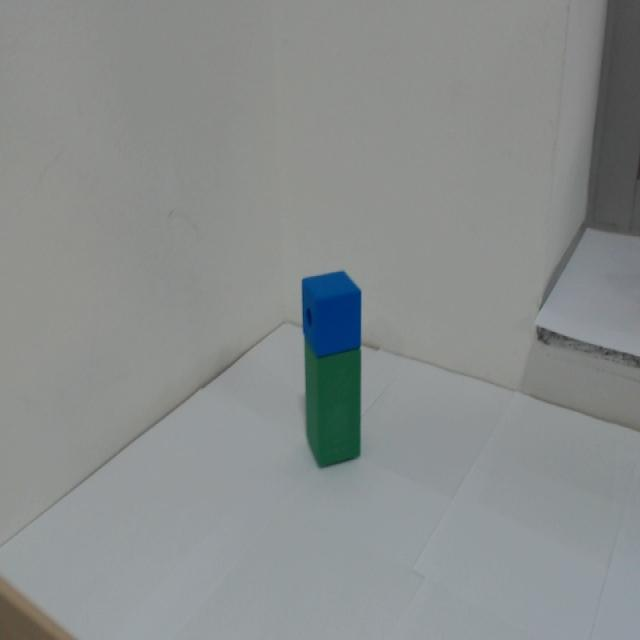cube: (277, 268, 371, 350)
